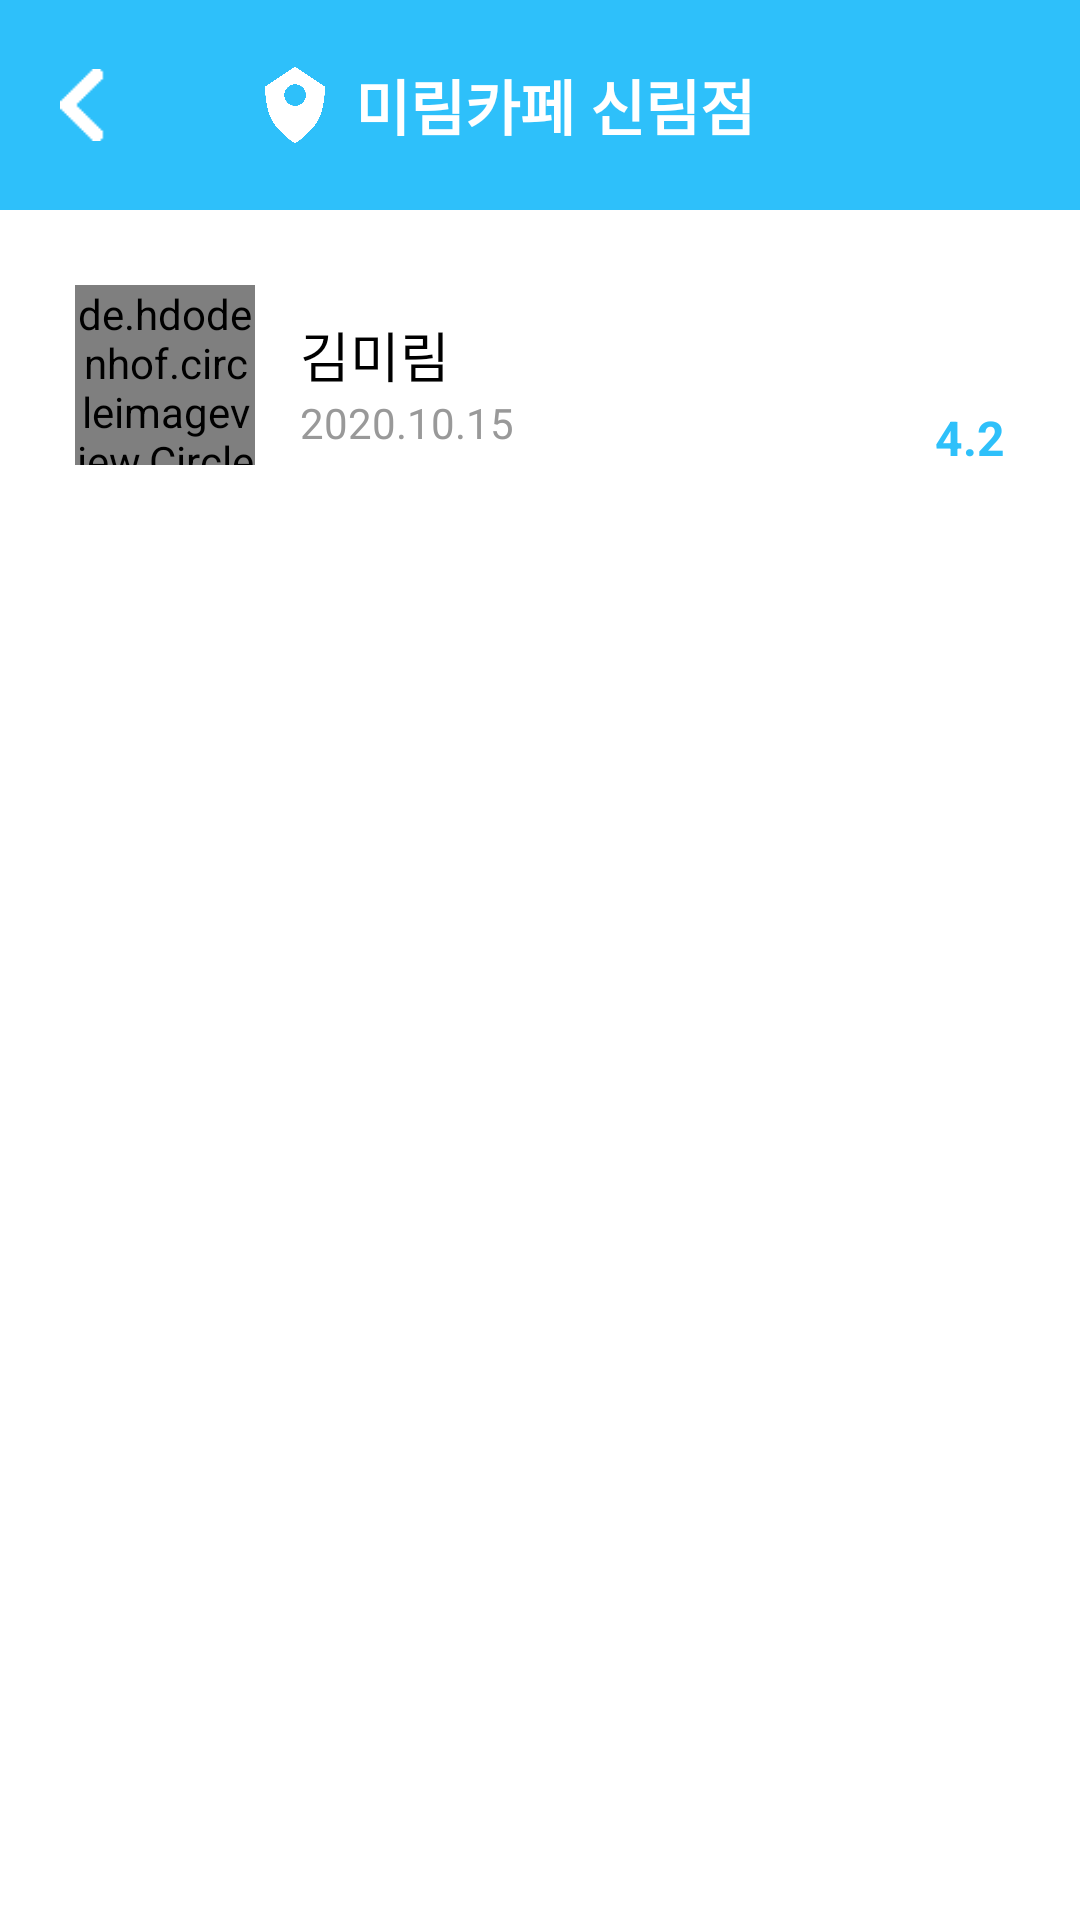

Icon bounding boxes for this 1080w x 1920h phone screenshot, format bbox=[x1, y1, x2, y2]:
back: bbox=[60, 69, 104, 141]
